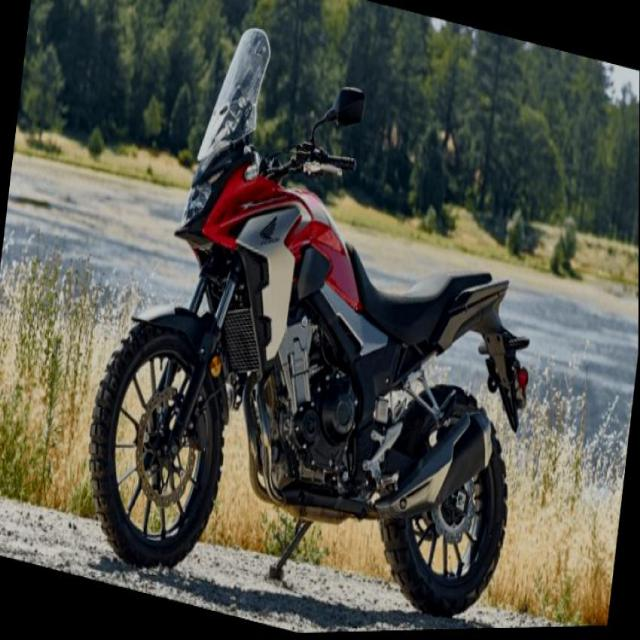CB500X: (76, 0, 556, 638)
